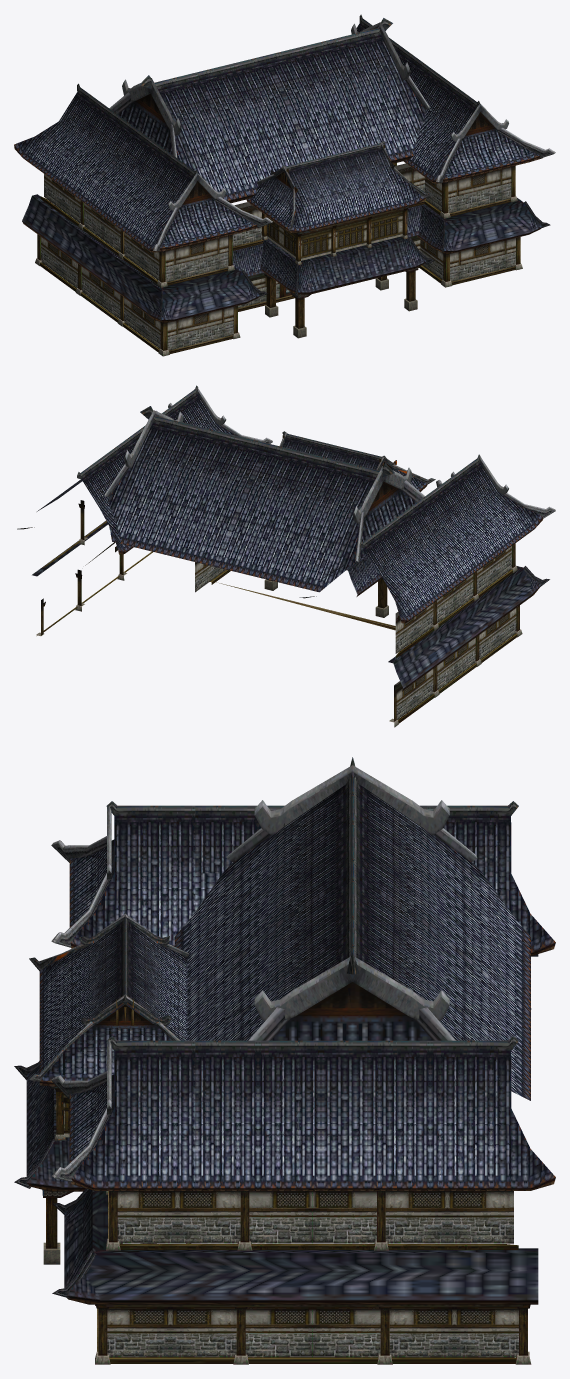
The model's file is b1-006-castle01_lod_01.glb.
The picture shows the model from 3 angles, top to bottom: view 1: azimuth 30°, elevation 25°; view 2: azimuth 150°, elevation 25°; view 3: azimuth 270°, elevation 25°; orthographic projection. The views are drawn at different scales.
Parts seen in each view (by area): view 1: b1-006-castle-02, b1-006-castle-04, b1-006-castle-01, b1-006-castle-03, b1-006-castle-05; view 2: b1-006-castle-02, b1-006-castle-04, b1-006-castle-01, b1-006-castle-03, b1-006-castle-05; view 3: b1-006-castle-02, b1-006-castle-04, b1-006-castle-01, b1-006-castle-03, b1-006-castle-05.
Part boxes in pixels (<box>): b1-006-castle-02: <box>14,14,542,265</box>; b1-006-castle-04: <box>35,163,550,356</box>; b1-006-castle-01: <box>22,194,541,321</box>; b1-006-castle-03: <box>109,22,555,260</box>; b1-006-castle-05: <box>264,267,418,338</box>; b1-006-castle-02: <box>17,385,542,623</box>; b1-006-castle-04: <box>36,500,549,727</box>; b1-006-castle-01: <box>32,521,541,691</box>; b1-006-castle-03: <box>104,388,555,566</box>; b1-006-castle-05: <box>264,578,388,617</box>; b1-006-castle-02: <box>29,757,555,1190</box>; b1-006-castle-04: <box>14,1008,531,1364</box>; b1-006-castle-01: <box>26,954,538,1304</box>; b1-006-castle-03: <box>51,765,477,1182</box>; b1-006-castle-05: <box>42,1189,156,1264</box>.
Size of the model in its own units: 30.4 by 15.24 by 20.79.
5 materials, 5 textured.
